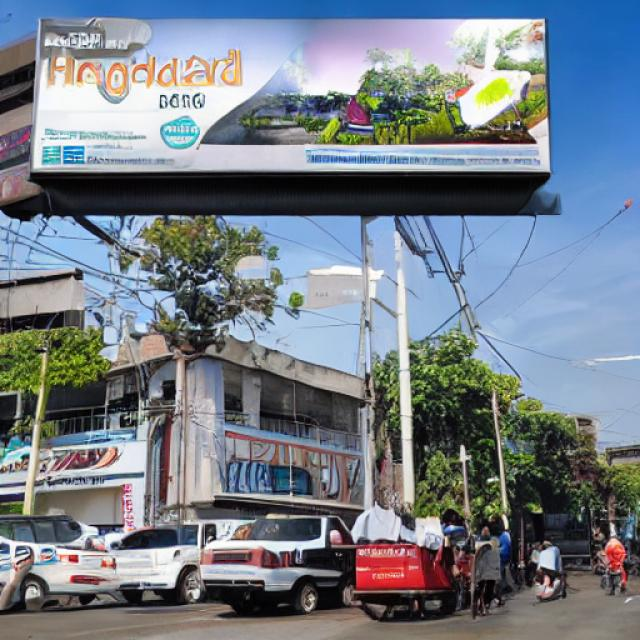Billboard: (35, 15, 552, 193)
